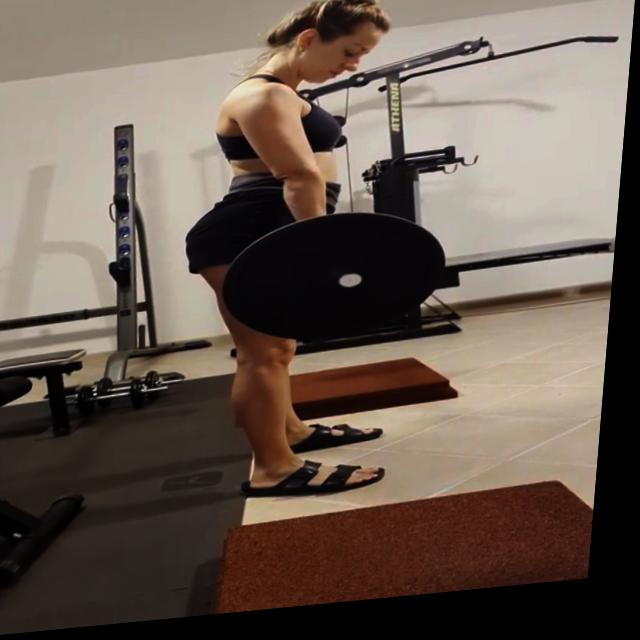barbell: (222, 207, 463, 360)
